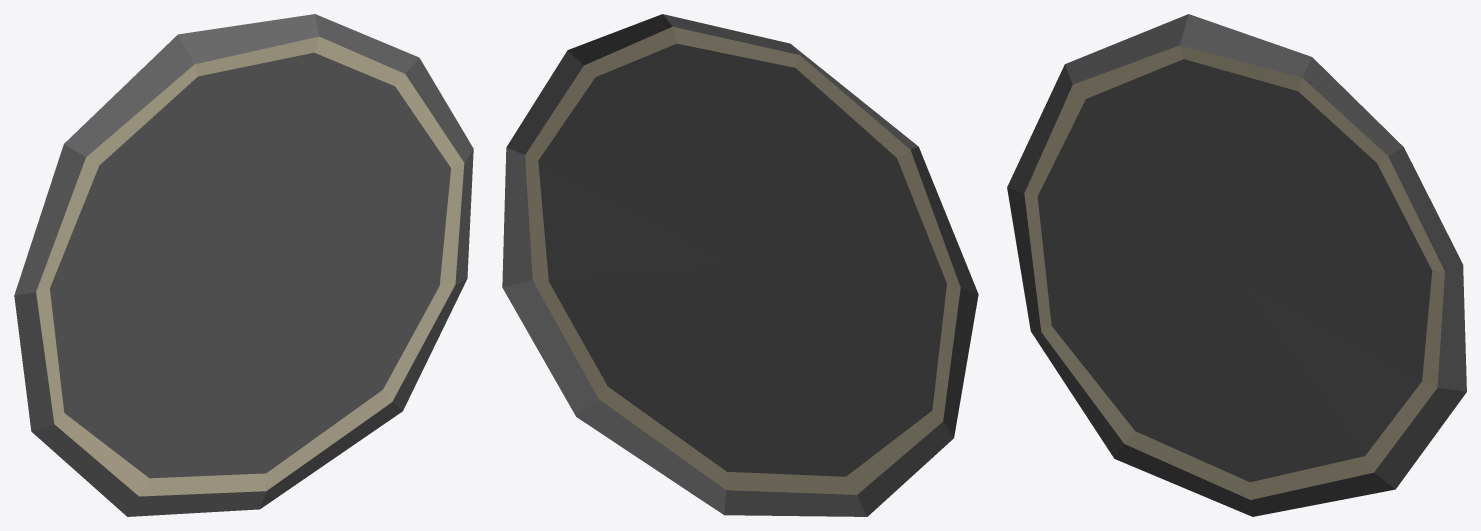
Rendered from ui_sapienMarker.glb.
3 views of the same model, side by side, from view 1: azimuth 30°, elevation 25°; view 2: azimuth 150°, elevation 25°; view 3: azimuth 330°, elevation 25° (orthographic). The views are drawn at different scales.
Visible parts, largest first — view 1: Cylinder; view 2: Cylinder; view 3: Cylinder.
Boxes of the visible parts, x1=… form: Cylinder: x1=14, y1=14, x2=473, y2=516; Cylinder: x1=502, y1=14, x2=978, y2=516; Cylinder: x1=1007, y1=14, x2=1466, y2=516.
Size of the model in its own units: 1.86 by 1.87 by 0.0926.
